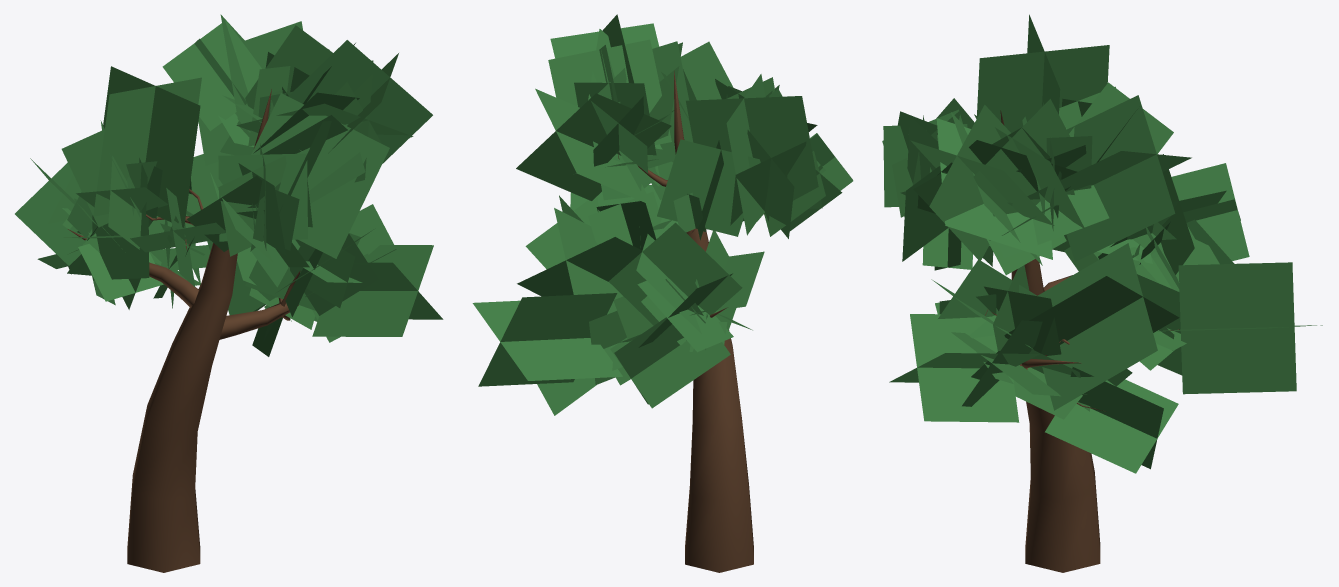
The model's file is tree-evergreen.glb.
3 renders of one model, left to right at view 1: azimuth 30°, elevation 25°; view 2: azimuth 150°, elevation 25°; view 3: azimuth 270°, elevation 25°, orthographic. The views are drawn at different scales.
Size of the model in its own units: 9.65 by 14.67 by 11.25.
